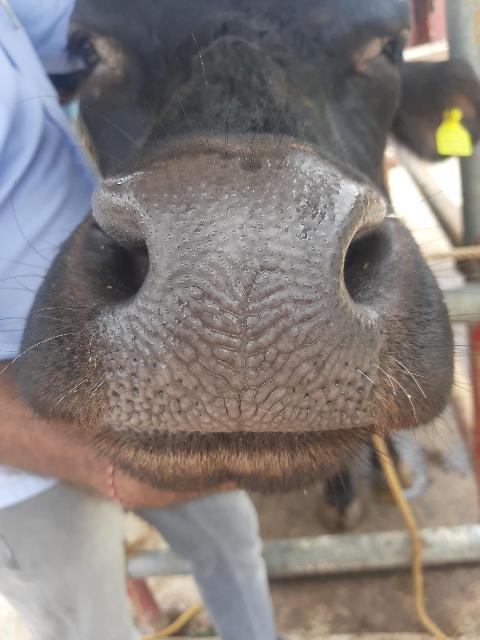Muzzle: (119, 180, 348, 434)
